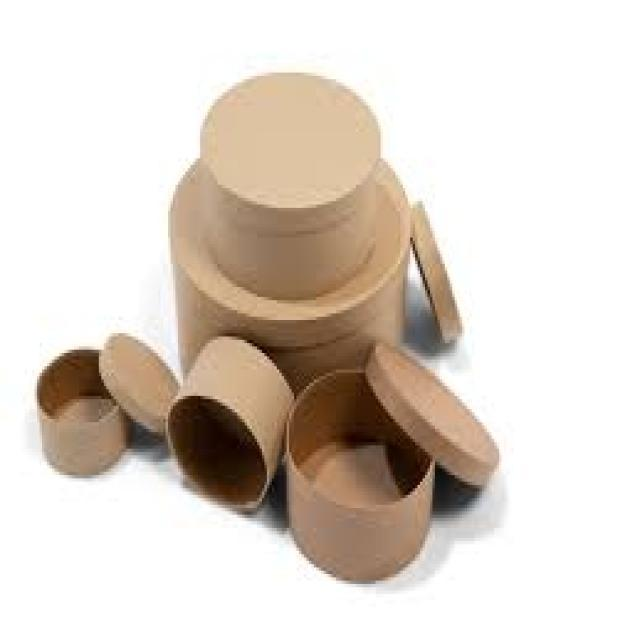Cardboard: (199, 73, 371, 298)
